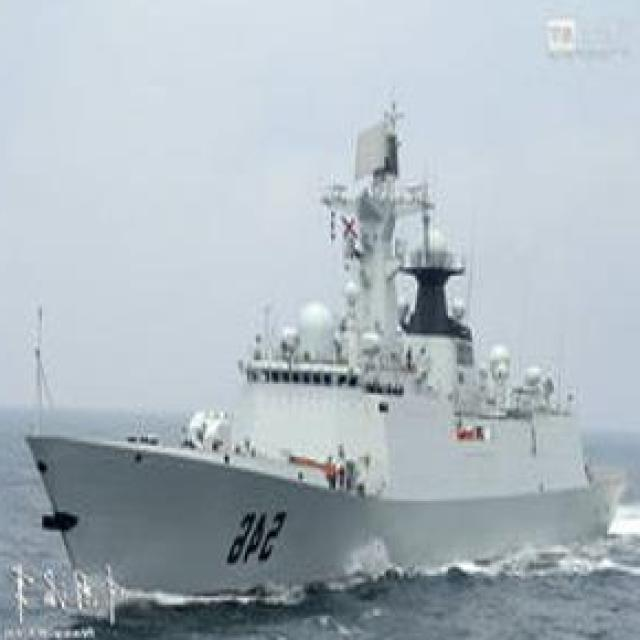navalvessels: (21, 101, 612, 595)
